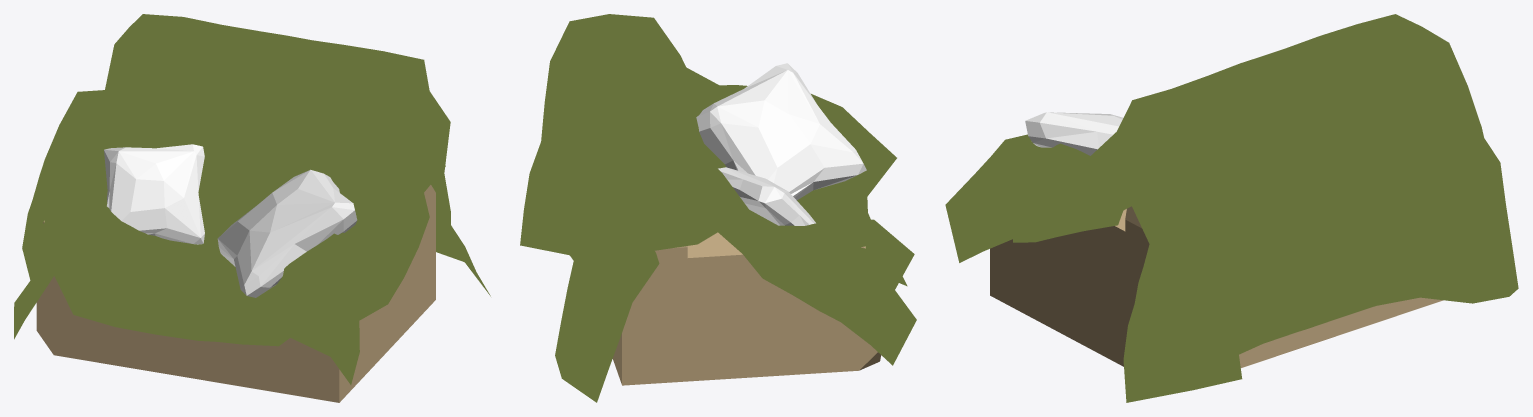
Rendered from green_sofa_1.glb.
The picture shows the model from 3 angles, left to right: view 1: azimuth 30°, elevation 25°; view 2: azimuth 150°, elevation 25°; view 3: azimuth 270°, elevation 25°; orthographic projection. The views are drawn at different scales.
Visible parts, largest first — view 1: Blanket, Sofa, Cushion.005, Cushion.004; view 2: Blanket, Sofa, Cushion.005, Cushion.004; view 3: Blanket, Sofa, Cushion.005.
Boxes of the visible parts, bbox=[...] form: Blanket: bbox=[14, 14, 490, 384]; Sofa: bbox=[36, 185, 435, 402]; Cushion.005: bbox=[217, 169, 357, 297]; Cushion.004: bbox=[104, 144, 204, 244]; Blanket: bbox=[520, 14, 916, 402]; Sofa: bbox=[612, 232, 881, 385]; Cushion.005: bbox=[696, 63, 866, 200]; Cushion.004: bbox=[718, 167, 815, 225]; Blanket: bbox=[945, 14, 1518, 402]; Sofa: bbox=[990, 206, 1442, 367]; Cushion.005: bbox=[1025, 112, 1123, 155].
Size of the model in its own units: 3.27 by 1.82 by 3.54.
